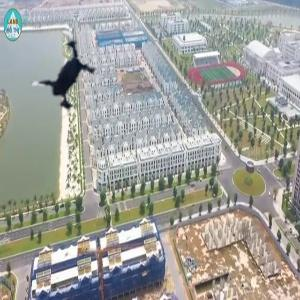drone: (13, 25, 116, 128)
